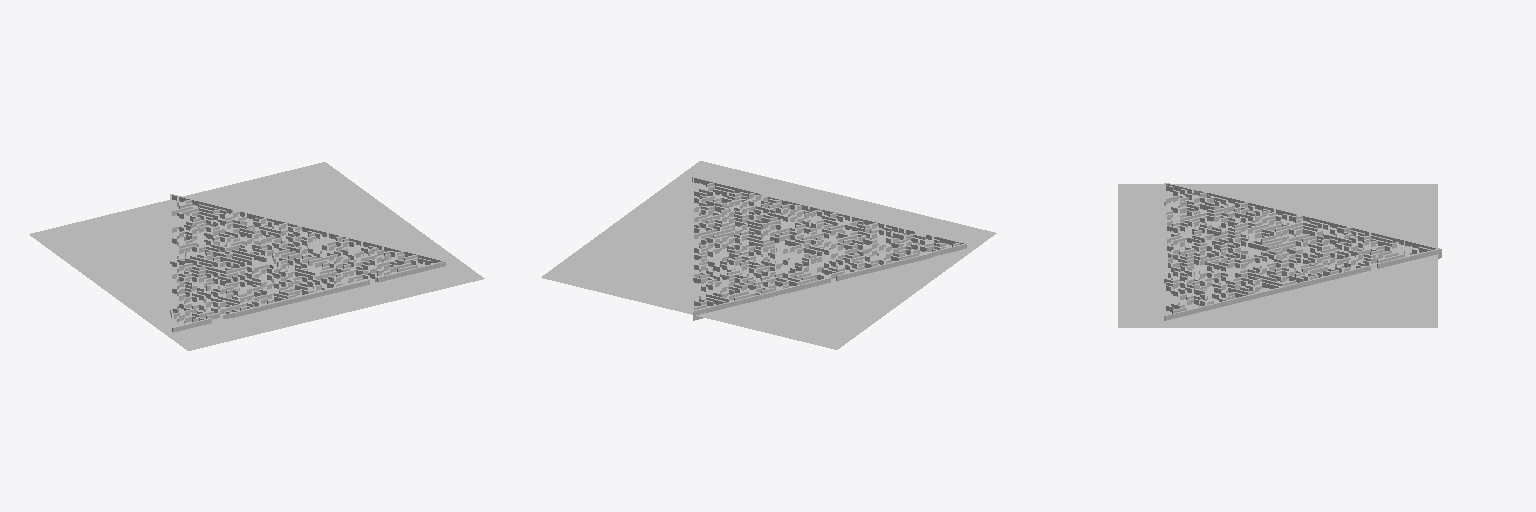
File: LaberintoFacil.obj
3 views of the same model, side by side, from view 1: azimuth 30°, elevation 25°; view 2: azimuth 150°, elevation 25°; view 3: azimuth 270°, elevation 25° (orthographic).
Parts seen in each view (by area): view 1: Cube, Curve.632; view 2: Cube, Curve.632; view 3: Cube, Curve.632.
Part boxes in pixels (bbox=[...]): Cube: bbox=[29, 162, 484, 350]; Curve.632: bbox=[170, 194, 445, 332]; Cube: bbox=[541, 161, 996, 349]; Curve.632: bbox=[692, 177, 966, 320]; Cube: bbox=[1118, 184, 1437, 327]; Curve.632: bbox=[1164, 183, 1441, 320].
Bounding box in the file's own units: 12.67 × 0.3763 × 11.94.